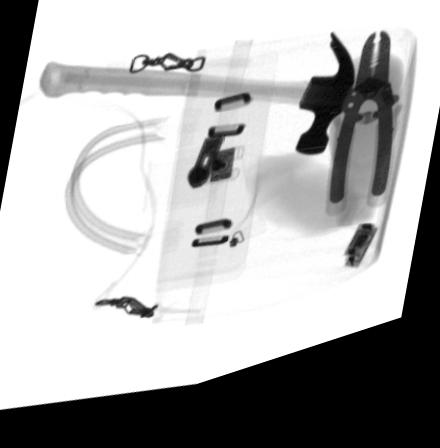Hammer: (36, 51, 355, 173)
Pliers: (324, 54, 402, 236)
